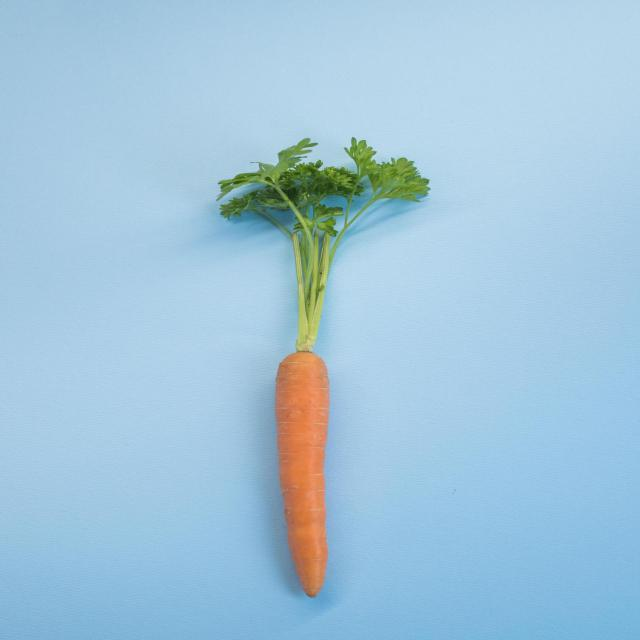carrot: (265, 340, 345, 598)
